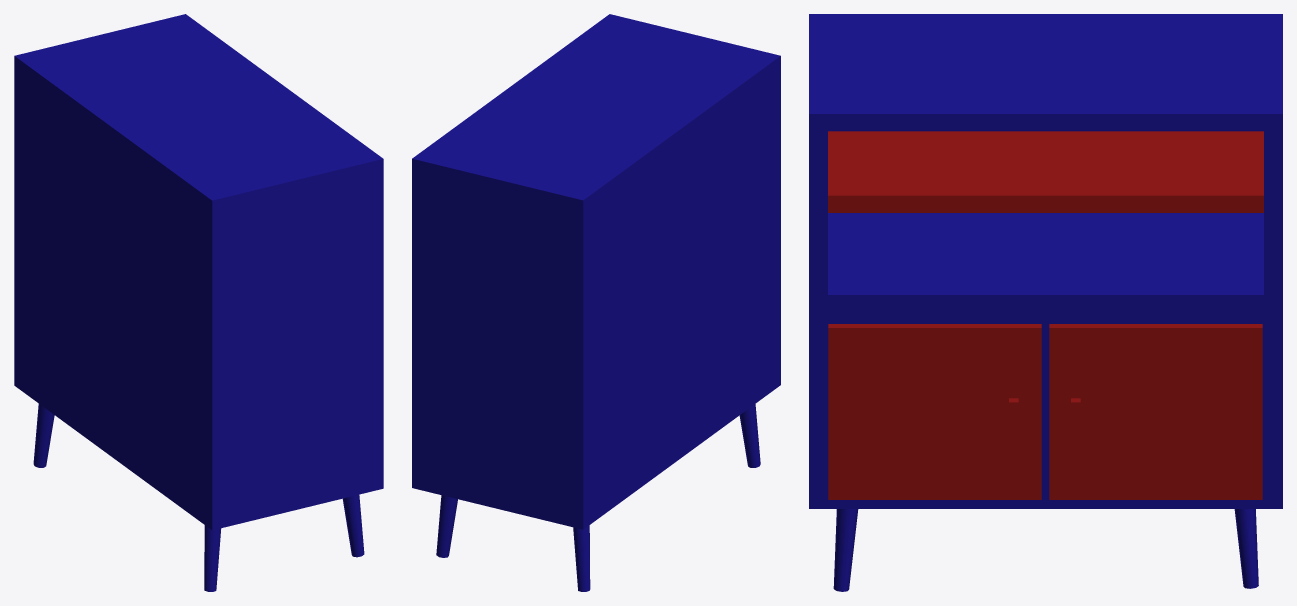
File: SM_PetitRangement.FBX
3 renders of one model, left to right at view 1: azimuth 30°, elevation 25°; view 2: azimuth 150°, elevation 25°; view 3: azimuth 270°, elevation 25°, orthographic. The views are drawn at different scales.
Bounding box in the file's own units: 54.07 × 112 × 100.
